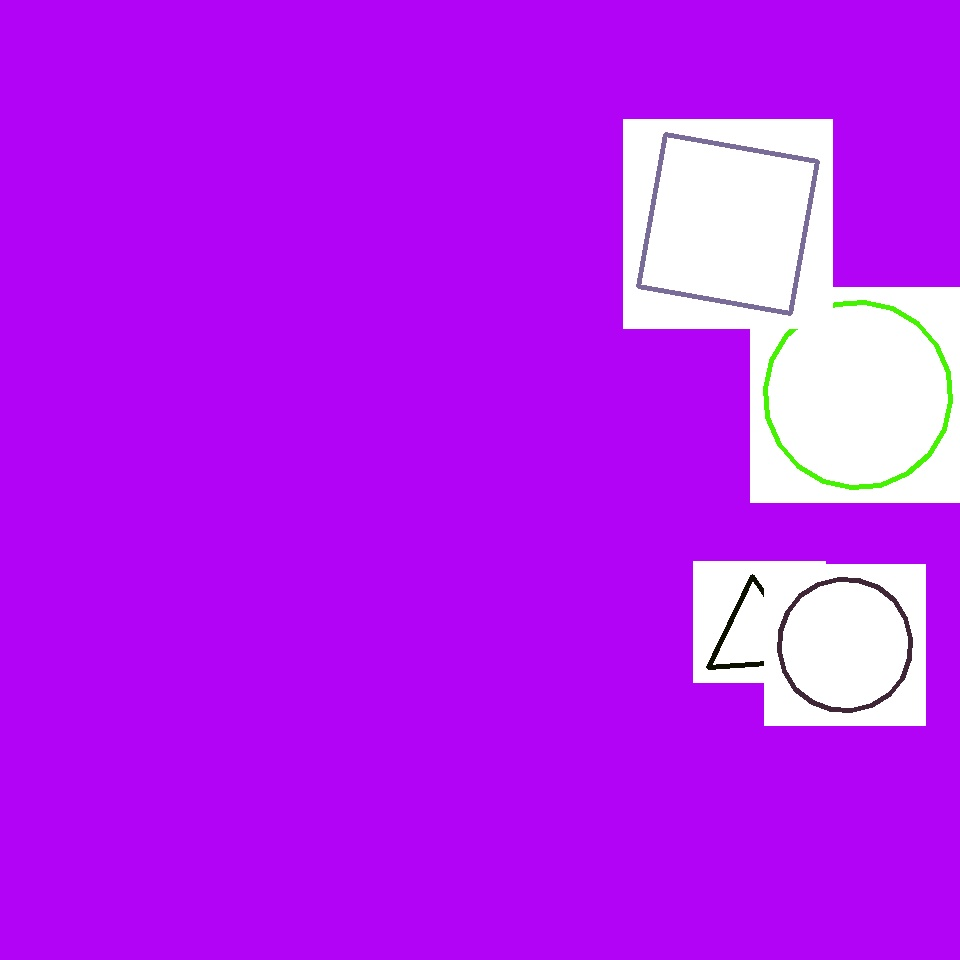circle: (33, 314, 149, 430), (706, 590, 808, 680)
square: (638, 134, 818, 314)
triangle: (174, 284, 476, 588), (766, 302, 950, 488), (612, 325, 772, 485), (514, 543, 656, 684), (780, 580, 910, 710)
